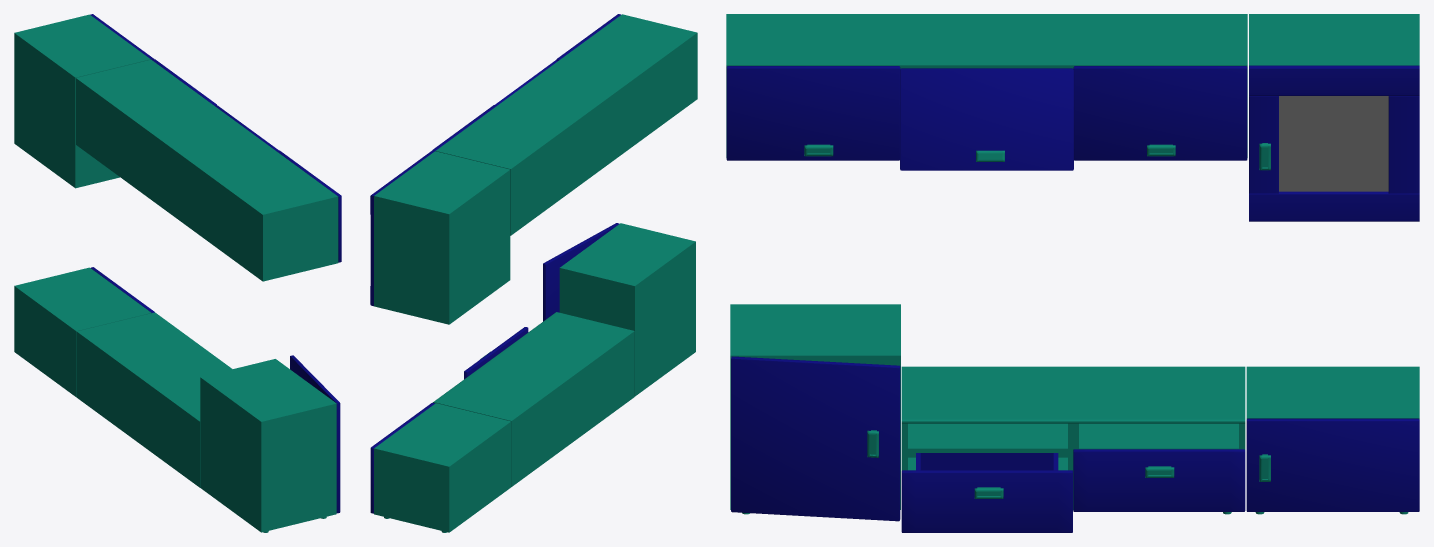
The model's file is TV Furniture.obj.
3 renders of one model, left to right at view 1: azimuth 30°, elevation 25°; view 2: azimuth 150°, elevation 25°; view 3: azimuth 270°, elevation 25°, orthographic. The views are drawn at different scales.
Parts seen in each view (by area): view 1: Box001, Box005, Box003, Box002, Box004, Box009, Box006; view 2: Box001, Box002, Box003, Box005, Box004, Box009, Box012, Box010; view 3: Box003, Box001, Box009, Box007, Box006, Box008, Box010, Box012, Box011, Box017, Box005, Box004 (+5 smaller).
Part boxes in pixels (x1=…): Box001: x1=76, y1=59, x2=338, y2=281; Box005: x1=200, y1=359, x2=336, y2=532; Box003: x1=76, y1=312, x2=232, y2=487; Box002: x1=14, y1=14, x2=150, y2=188; Box004: x1=14, y1=267, x2=151, y2=397; Box009: x1=290, y1=355, x2=340, y2=513; Box006: x1=276, y1=150, x2=341, y2=262; Box001: x1=436, y1=14, x2=697, y2=235; Box002: x1=374, y1=151, x2=510, y2=324; Box003: x1=433, y1=312, x2=634, y2=486; Box005: x1=559, y1=223, x2=695, y2=396; Box004: x1=374, y1=403, x2=511, y2=532; Box009: x1=543, y1=223, x2=619, y2=321; Box012: x1=464, y1=327, x2=528, y2=379; Box010: x1=370, y1=402, x2=434, y2=513; Box003: x1=901, y1=366, x2=1245, y2=509; Box001: x1=726, y1=14, x2=1247, y2=157; Box009: x1=731, y1=356, x2=900, y2=521; Box007: x1=900, y1=68, x2=1073, y2=170; Box006: x1=726, y1=66, x2=900, y2=160; Box008: x1=1073, y1=66, x2=1247, y2=160; Box010: x1=1246, y1=418, x2=1419, y2=511; Box012: x1=901, y1=453, x2=1072, y2=532; Box011: x1=1073, y1=449, x2=1245, y2=511; Box017: x1=1279, y1=96, x2=1388, y2=191; Box005: x1=730, y1=304, x2=900, y2=509; Box004: x1=1246, y1=366, x2=1419, y2=419.
Size of the model in its own units: 26.07 by 68.01 by 94.46.
